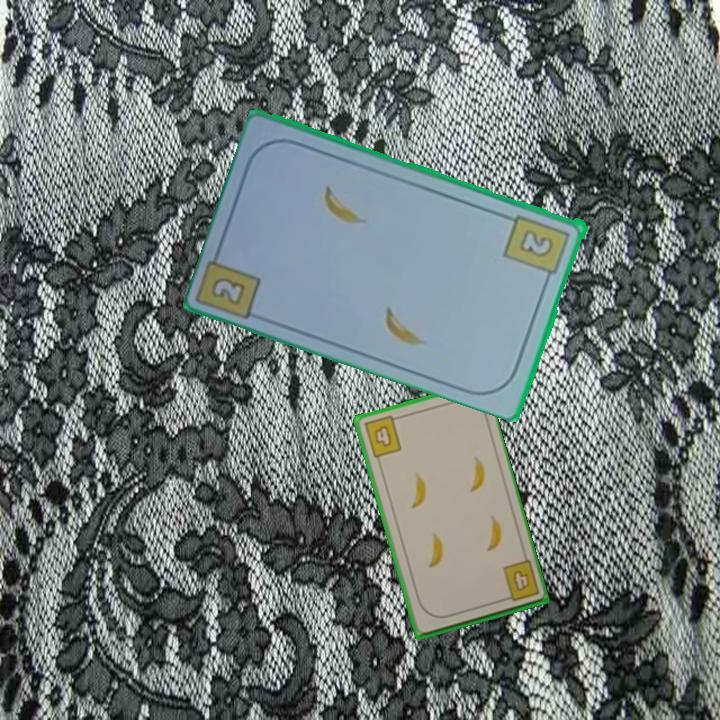2b: (501, 210, 573, 286), (208, 273, 249, 308)
4b: (360, 412, 404, 461), (498, 557, 542, 604)
